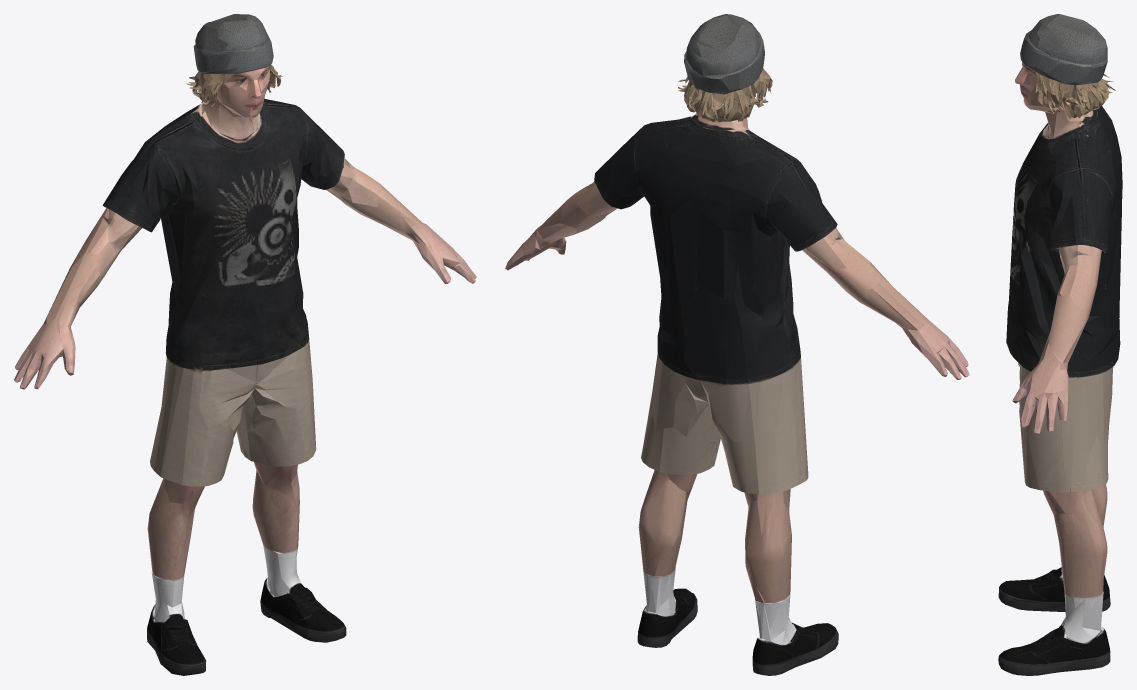
File: image3d.glb
3 renders of one model, left to right at view 1: azimuth 30°, elevation 25°; view 2: azimuth 150°, elevation 25°; view 3: azimuth 270°, elevation 25°, orthographic.
Size of the model in its own units: 1.46 by 1.9 by 0.3471.
1 material, 1 textured.
